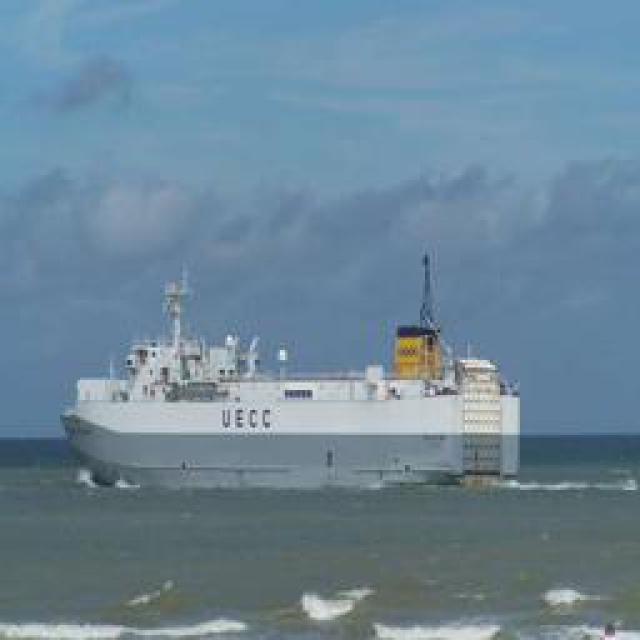Ship: (60, 249, 525, 482)
